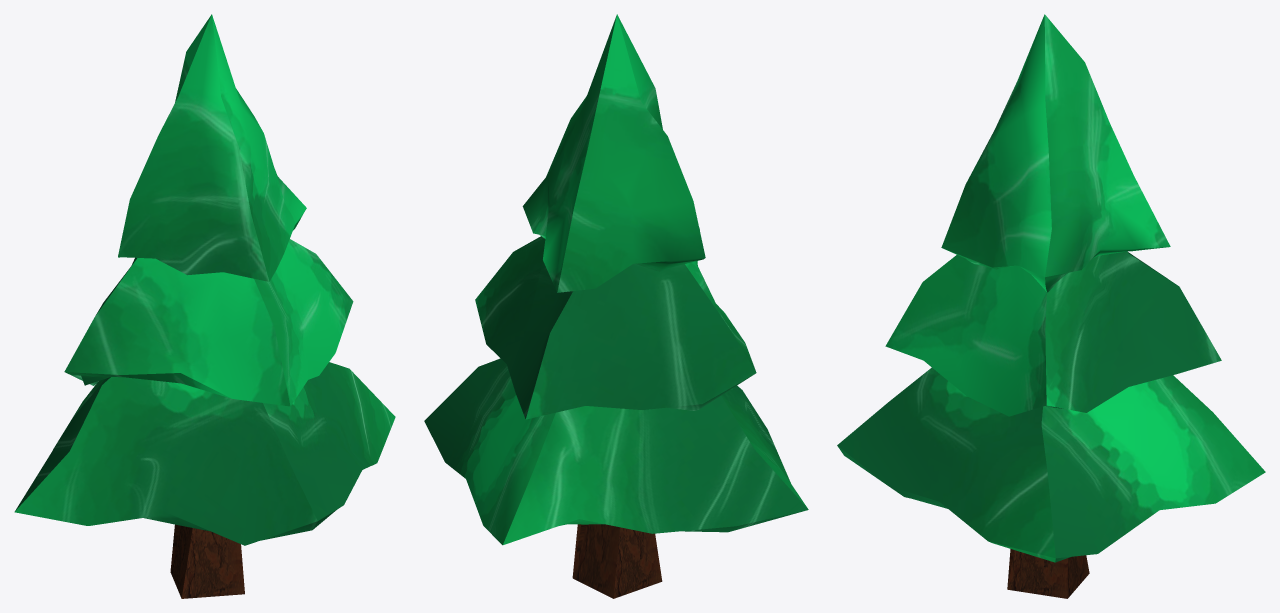
Rendered from TreeStack3.fbx.
The picture shows the model from 3 angles, left to right: view 1: azimuth 30°, elevation 25°; view 2: azimuth 150°, elevation 25°; view 3: azimuth 270°, elevation 25°; orthographic projection.
Parts seen in each view (by area): view 1: polymsh; view 2: polymsh; view 3: polymsh.
Boxes of the visible parts, x1,y1,x2,y2 form: polymsh: (14,14,395,598); polymsh: (424,14,808,598); polymsh: (837,14,1265,598).
Size of the model in its own units: 56.41 by 79.81 by 54.55.
